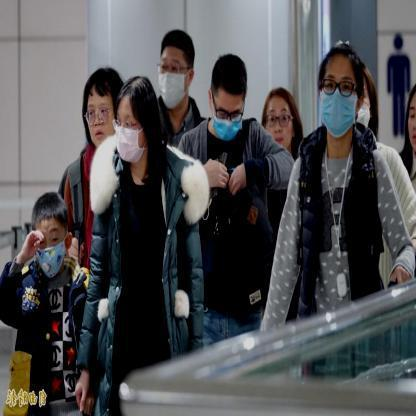with_mask: (113, 75, 161, 171), (316, 41, 365, 135), (208, 53, 251, 143), (29, 193, 71, 279), (158, 29, 196, 111), (354, 62, 378, 131)
without_mask: (86, 66, 125, 146), (264, 87, 302, 153), (405, 82, 415, 156)
